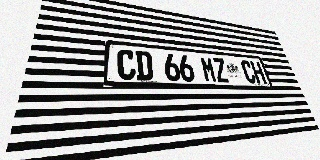6: (177, 54, 196, 82), (163, 53, 181, 81)
C: (117, 49, 136, 80), (240, 60, 257, 83)
D: (135, 50, 153, 81)
H: (250, 61, 267, 84)
M: (200, 56, 218, 82)
Z: (212, 57, 230, 83)
